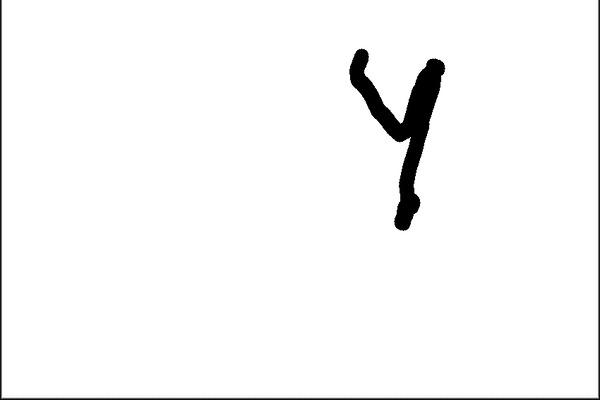Y: (328, 37, 457, 246)
